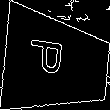P_E: (35, 42, 77, 84)
